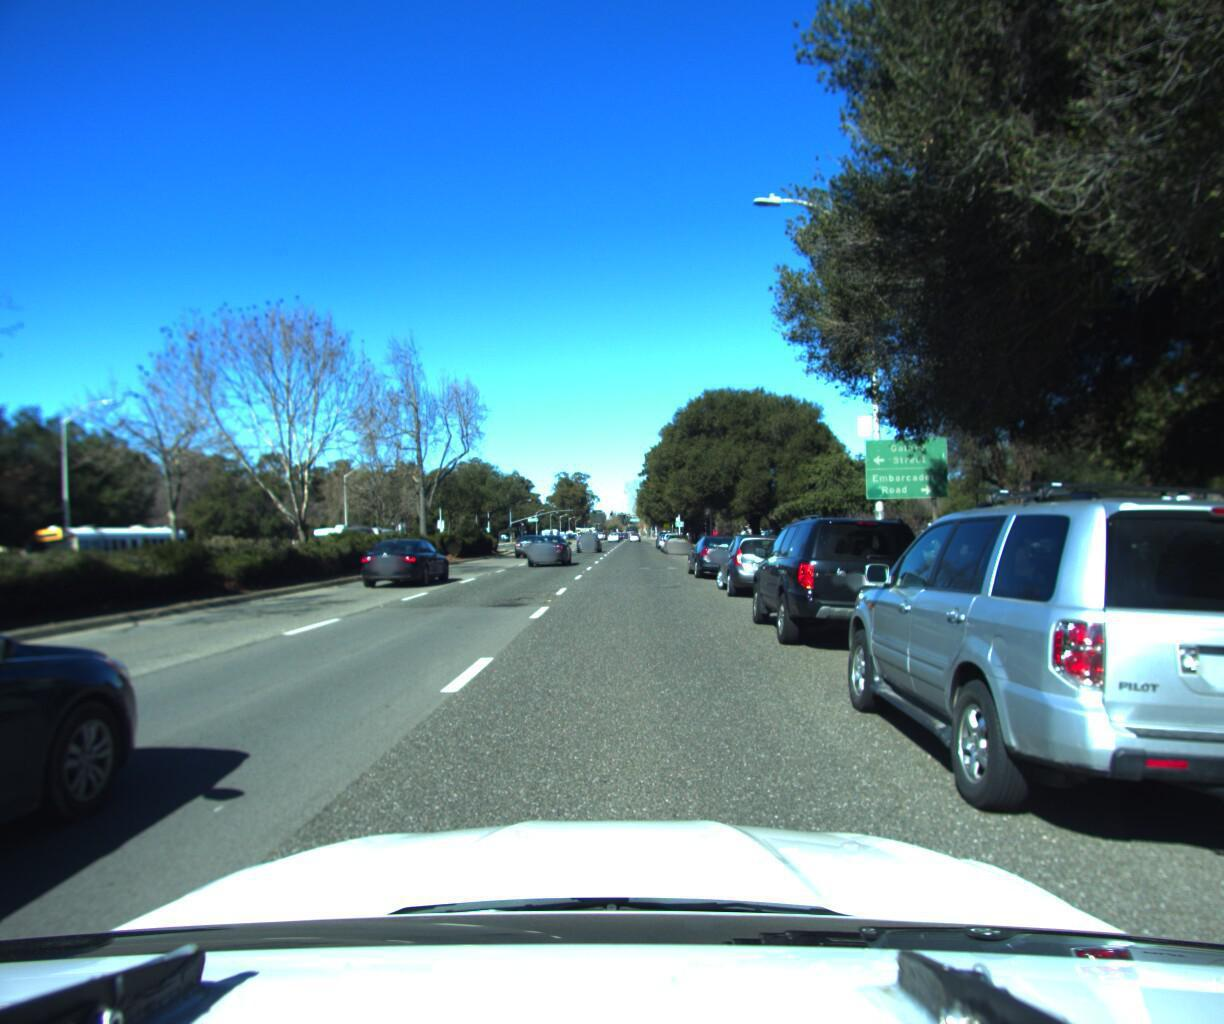bus: (0, 515, 194, 599)
car: (821, 443, 1224, 897), (0, 548, 173, 1024), (740, 502, 946, 656), (718, 528, 801, 596), (356, 534, 454, 589), (682, 531, 751, 580), (525, 529, 569, 563), (512, 532, 554, 559), (658, 531, 690, 553), (572, 530, 600, 551)
other_vehicle: (306, 523, 374, 565)
